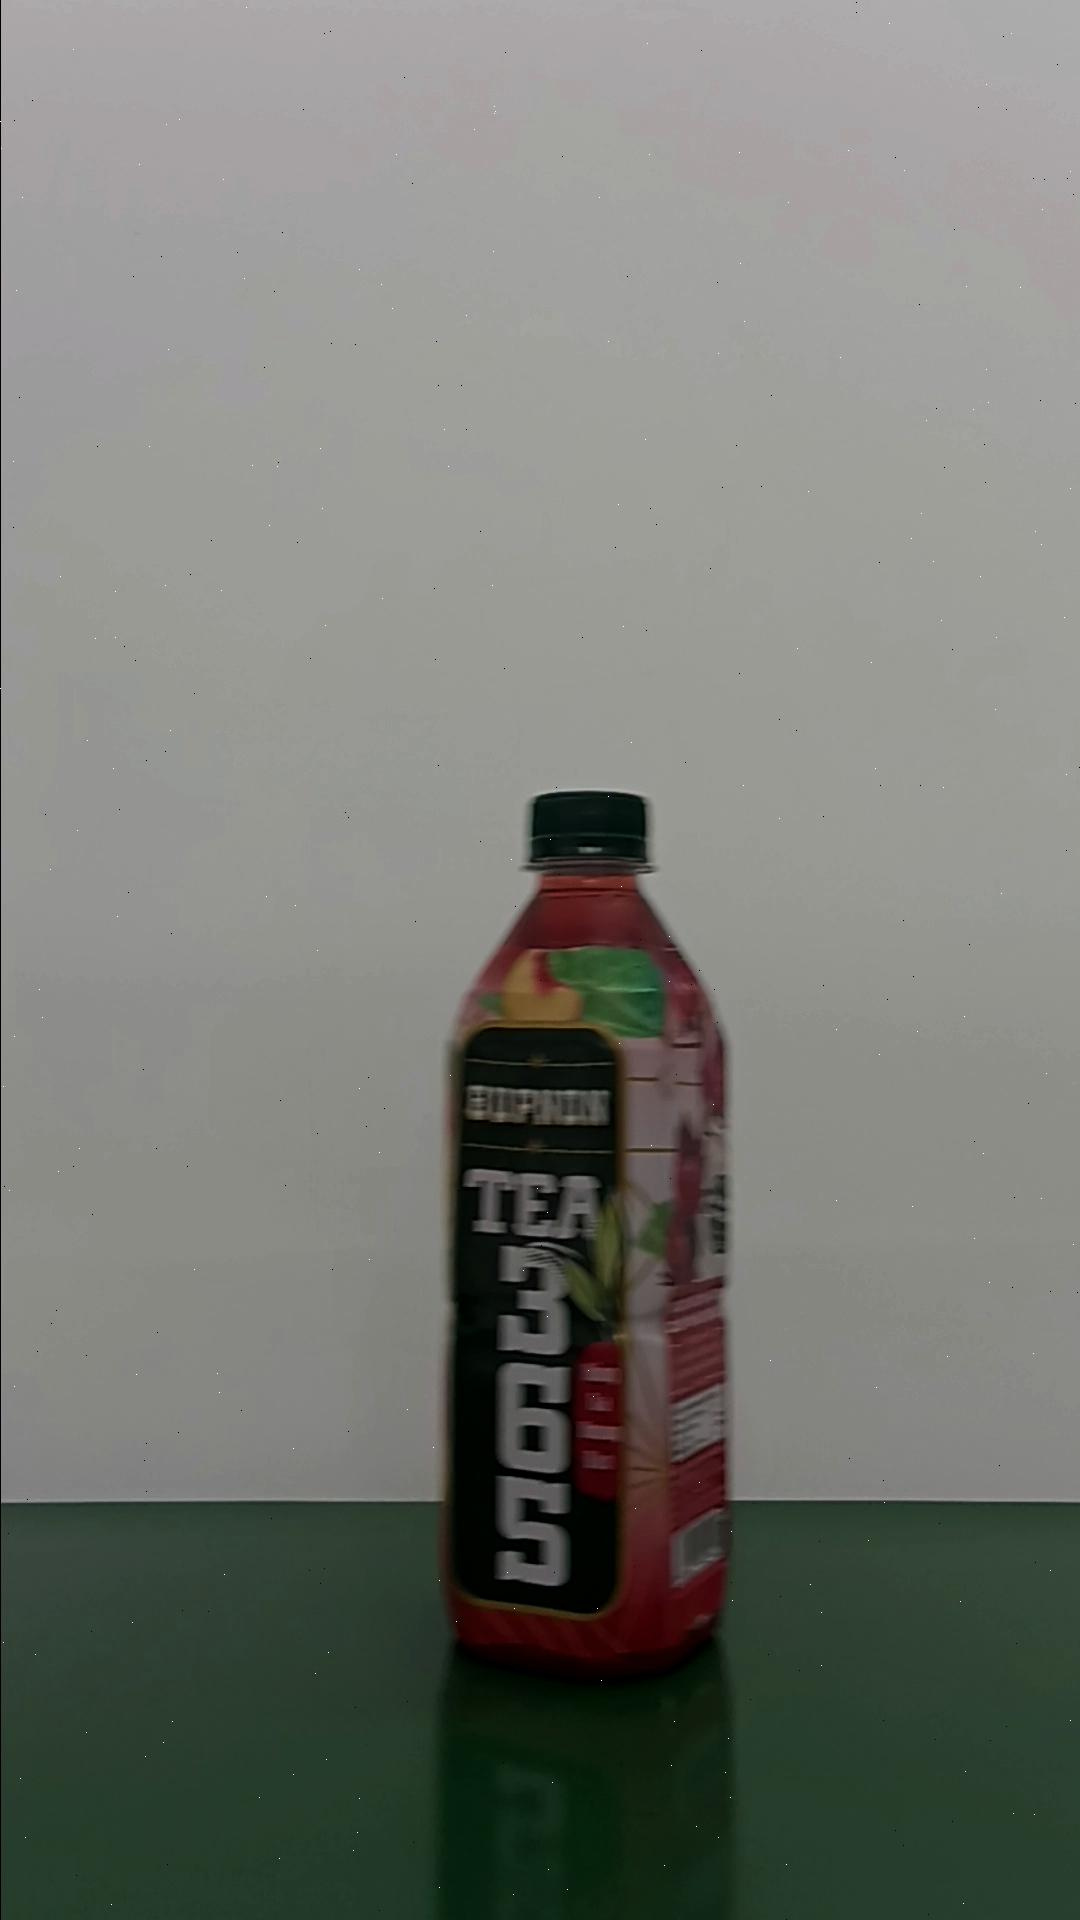khong loi: (436, 787, 735, 1681)
